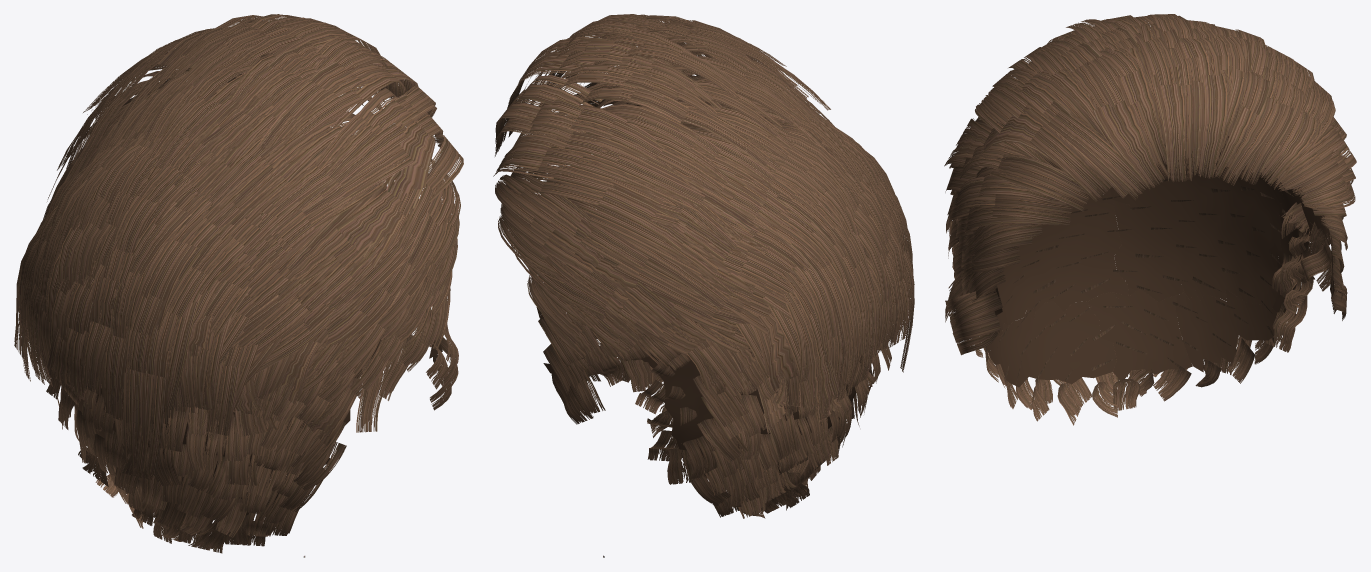
The model's file is hair-male-slick.glb.
3 views of the same model, side by side, from view 1: azimuth 30°, elevation 25°; view 2: azimuth 150°, elevation 25°; view 3: azimuth 270°, elevation 25° (orthographic). The views are drawn at different scales.
Visible parts, largest first — view 1: Hair_slick_cards, Hair_slick_cap; view 2: Hair_slick_cards, Hair_slick_cap; view 3: Hair_slick_cards, Hair_slick_cap.
Part boxes in pixels (bbox=[...]): Hair_slick_cards: bbox=[14, 14, 463, 553]; Hair_slick_cap: bbox=[74, 81, 442, 517]; Hair_slick_cards: bbox=[493, 14, 914, 518]; Hair_slick_cap: bbox=[536, 75, 869, 480]; Hair_slick_cards: bbox=[944, 14, 1356, 425]; Hair_slick_cap: bbox=[969, 133, 1334, 387].
Size of the model in its own units: 0.198 by 0.2676 by 0.1963.
Materials: 4 (3 with a texture image).
